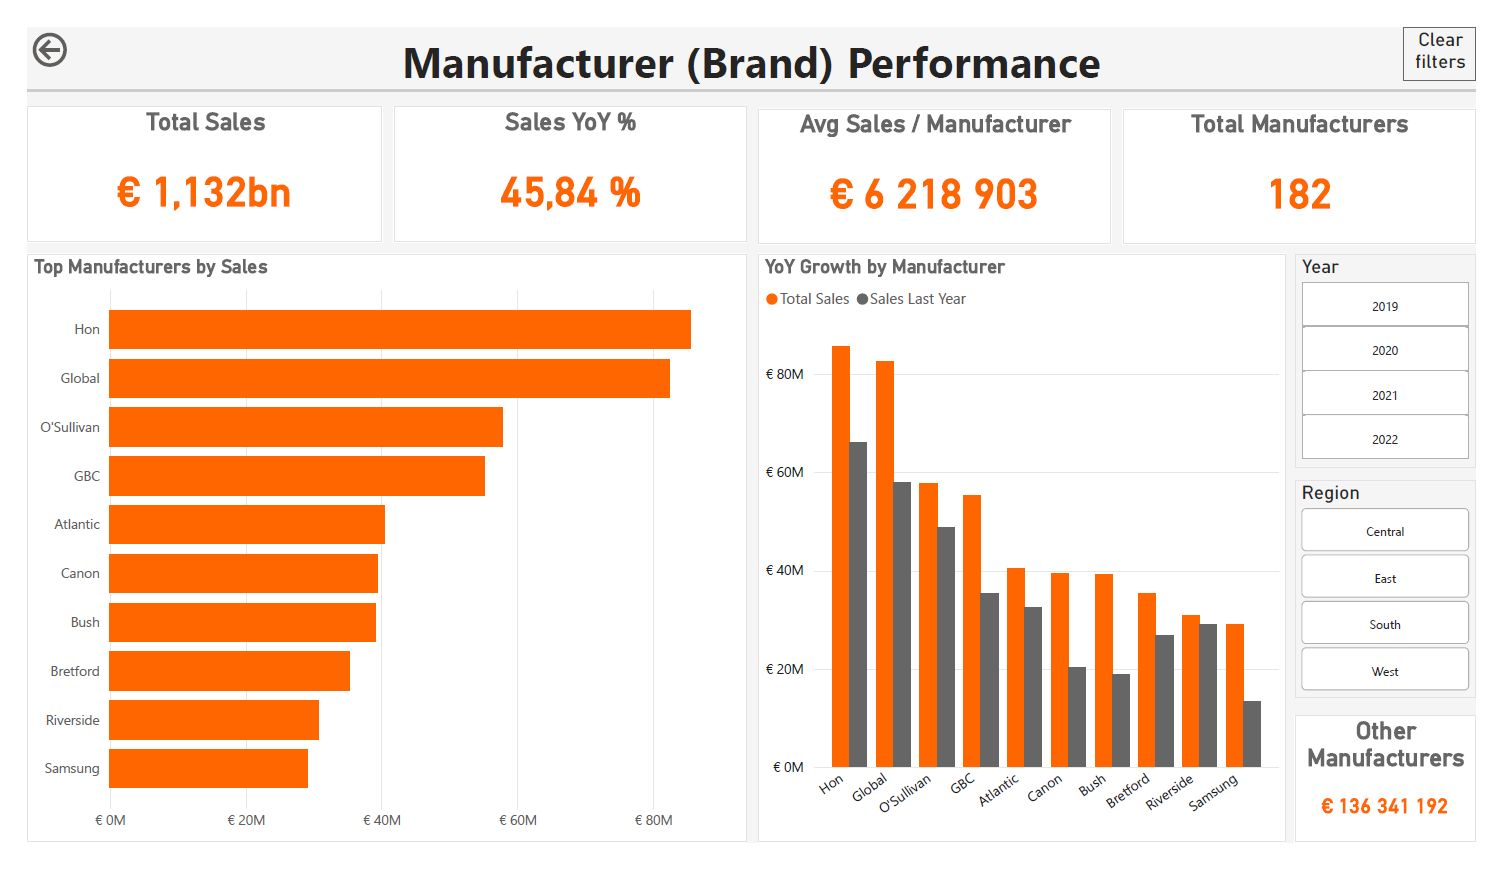

This screenshot's page, from the dashboard's own definition file:
{"tool":"powerbi","page":{"name":"04. Brand Performance","canvas":[1280,720],"ordinal":3},"visuals":[{"type":"textbox","box":[0,0,1280,70],"z":0},{"type":"card","title":"Total Sales","fields":{"Values":["_Measures.Total Sales"]},"box":[0,70,314,120],"z":1000},{"type":"card","title":"Avg Sales / Manufacturer","fields":{"Values":["_Measures.Avg Sales per Manufacturer"]},"box":[646,72,312,120],"z":2000},{"type":"card","title":"Sales YoY %","fields":{"Values":["_Measures.Sales Year over Year %"]},"box":[324,70,312,120],"z":3000},{"type":"card","title":"Total Manufacturers","fields":{"Values":["_Measures.Total Manufacturers"]},"box":[968,72,312,120],"z":4000},{"type":"clusteredBarChart","title":"Top Manufacturers by Sales","fields":{"Y":["_Measures.Total Sales"],"Category":["Fact_Sales_updated.manufactory"]},"box":[0,200,636,520],"z":5000},{"type":"clusteredColumnChart","title":"YoY Growth by Manufacturer","fields":{"Y":["_Measures.Total Sales","_Measures.Sales Last Year"],"Category":["Fact_Sales_updated.manufactory"]},"box":[646,200,466,520],"z":6000},{"type":"advancedSlicerVisual","fields":{"Values":["Calendar.Year"]},"box":[1120,200,160,190],"z":7000},{"type":"advancedSlicerVisual","fields":{"Values":["Fact_Sales_updated.region"]},"box":[1120,400,160,193],"z":8000},{"type":"card","title":"Other Manufacturers","fields":{"Values":["_Measures.Total Sales"]},"box":[1120,608,160,112],"z":9000},{"type":"actionButton","box":[0,0,100,40],"z":10000},{"type":"shape","box":[0,32,1280,48],"z":11000},{"type":"actionButton","title":"Clear filters","box":[1216,0,64,48],"z":12000}]}

Visuals, with their boxes in screenshot pixels (x1, y1, x2, y2), scaled from the page's 1280x720 canvas onto the 1502x869 screenshot:
textbox: <region>0, 0, 1501, 84</region>
"Total Sales" card: <region>0, 84, 368, 229</region>
"Avg Sales / Manufacturer" card: <region>758, 87, 1124, 232</region>
"Sales YoY %" card: <region>380, 84, 746, 229</region>
"Total Manufacturers" card: <region>1136, 87, 1501, 232</region>
"Top Manufacturers by Sales" clusteredBarChart: <region>0, 241, 746, 868</region>
"YoY Growth by Manufacturer" clusteredColumnChart: <region>758, 241, 1305, 868</region>
advancedSlicerVisual - Calendar.Year: <region>1314, 241, 1501, 471</region>
advancedSlicerVisual - Fact_Sales_updated.region: <region>1314, 483, 1501, 716</region>
"Other Manufacturers" card: <region>1314, 734, 1501, 868</region>
actionButton: <region>0, 0, 117, 48</region>
shape: <region>0, 39, 1501, 97</region>
"Clear filters" actionButton: <region>1427, 0, 1501, 58</region>
